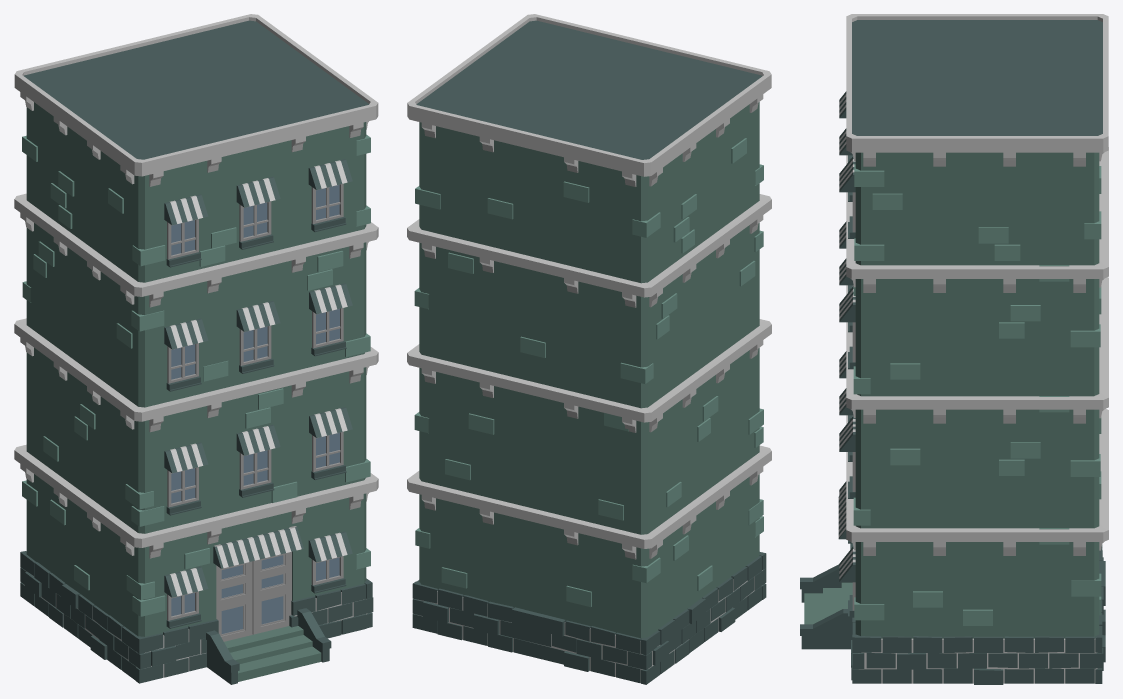
File: C_4Story_Mat.fbx
The picture shows the model from 3 angles, left to right: view 1: azimuth 30°, elevation 25°; view 2: azimuth 150°, elevation 25°; view 3: azimuth 270°, elevation 25°; orthographic projection. The views are drawn at different scales.
Parts seen in each view (by area): view 1: 4Story_Mat; view 2: 4Story_Mat; view 3: 4Story_Mat.
Part boxes in pixels (box(x1,y1,x2,y2)): 4Story_Mat: box(14, 14, 378, 684); 4Story_Mat: box(407, 14, 771, 684); 4Story_Mat: box(800, 14, 1108, 684).
Bounding box in the file's own units: 242 × 496 × 253.
